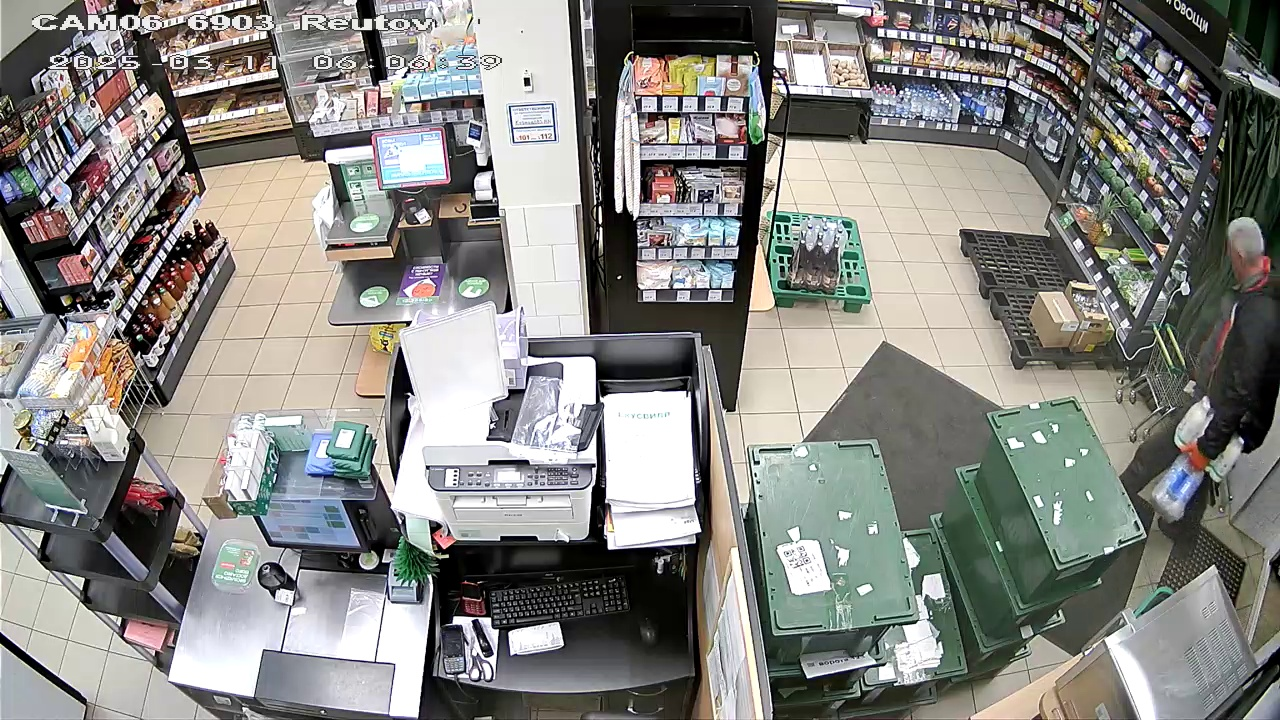Human: (1158, 211, 1279, 549)
pallet: (954, 224, 1128, 365)
